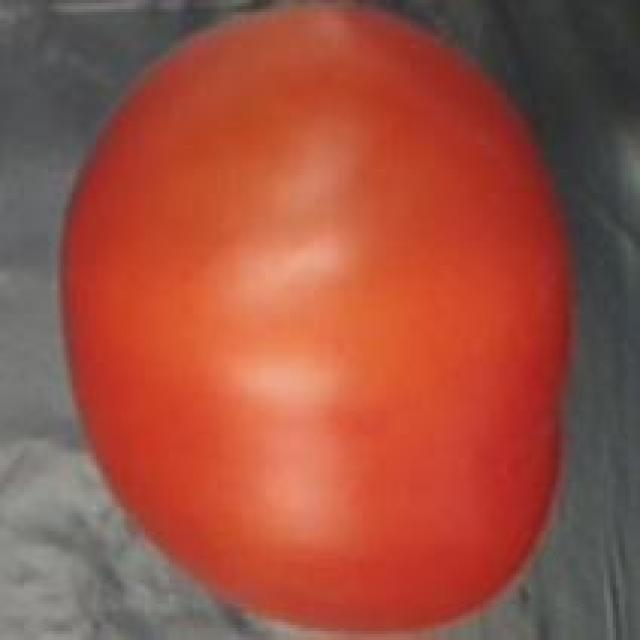ripe tomato: (45, 3, 598, 640)
